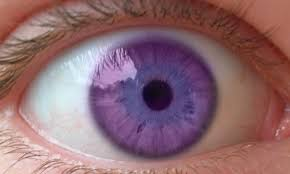e.other: (81, 40, 204, 163)
